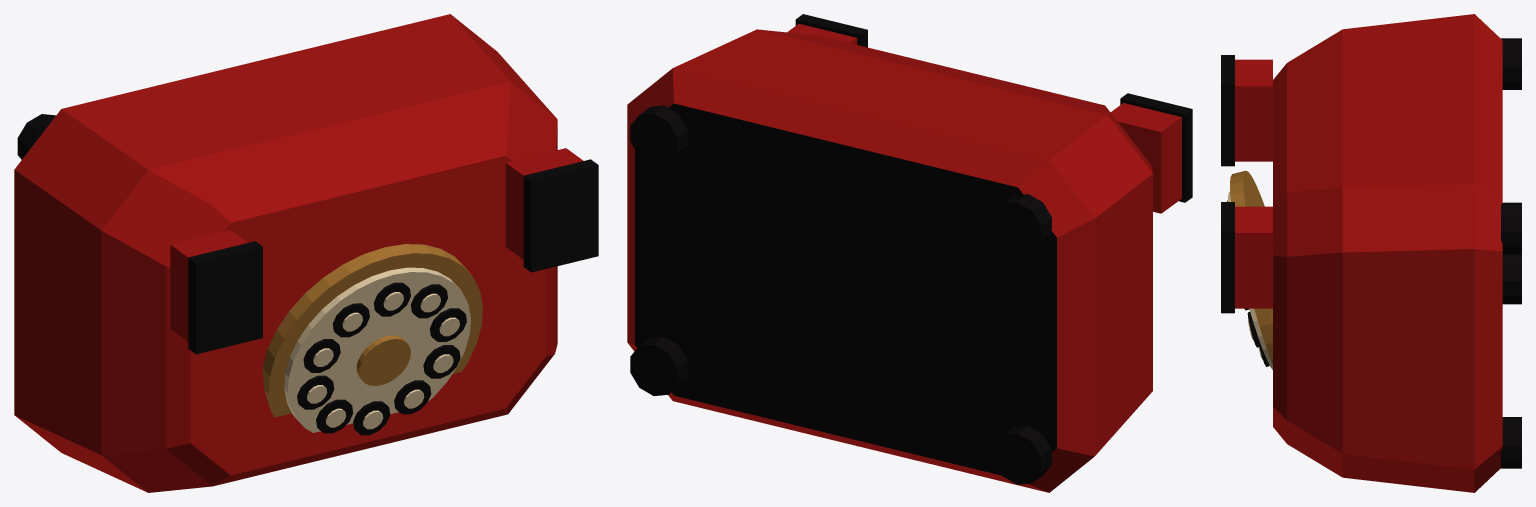
File: SM_RotaryPhoneBase.obj
3 views of the same model, side by side, from view 1: azimuth 30°, elevation 25°; view 2: azimuth 150°, elevation 25°; view 3: azimuth 270°, elevation 25° (orthographic). The views are drawn at different scales.
Size of the model in its own units: 72 by 49 by 43.3.
